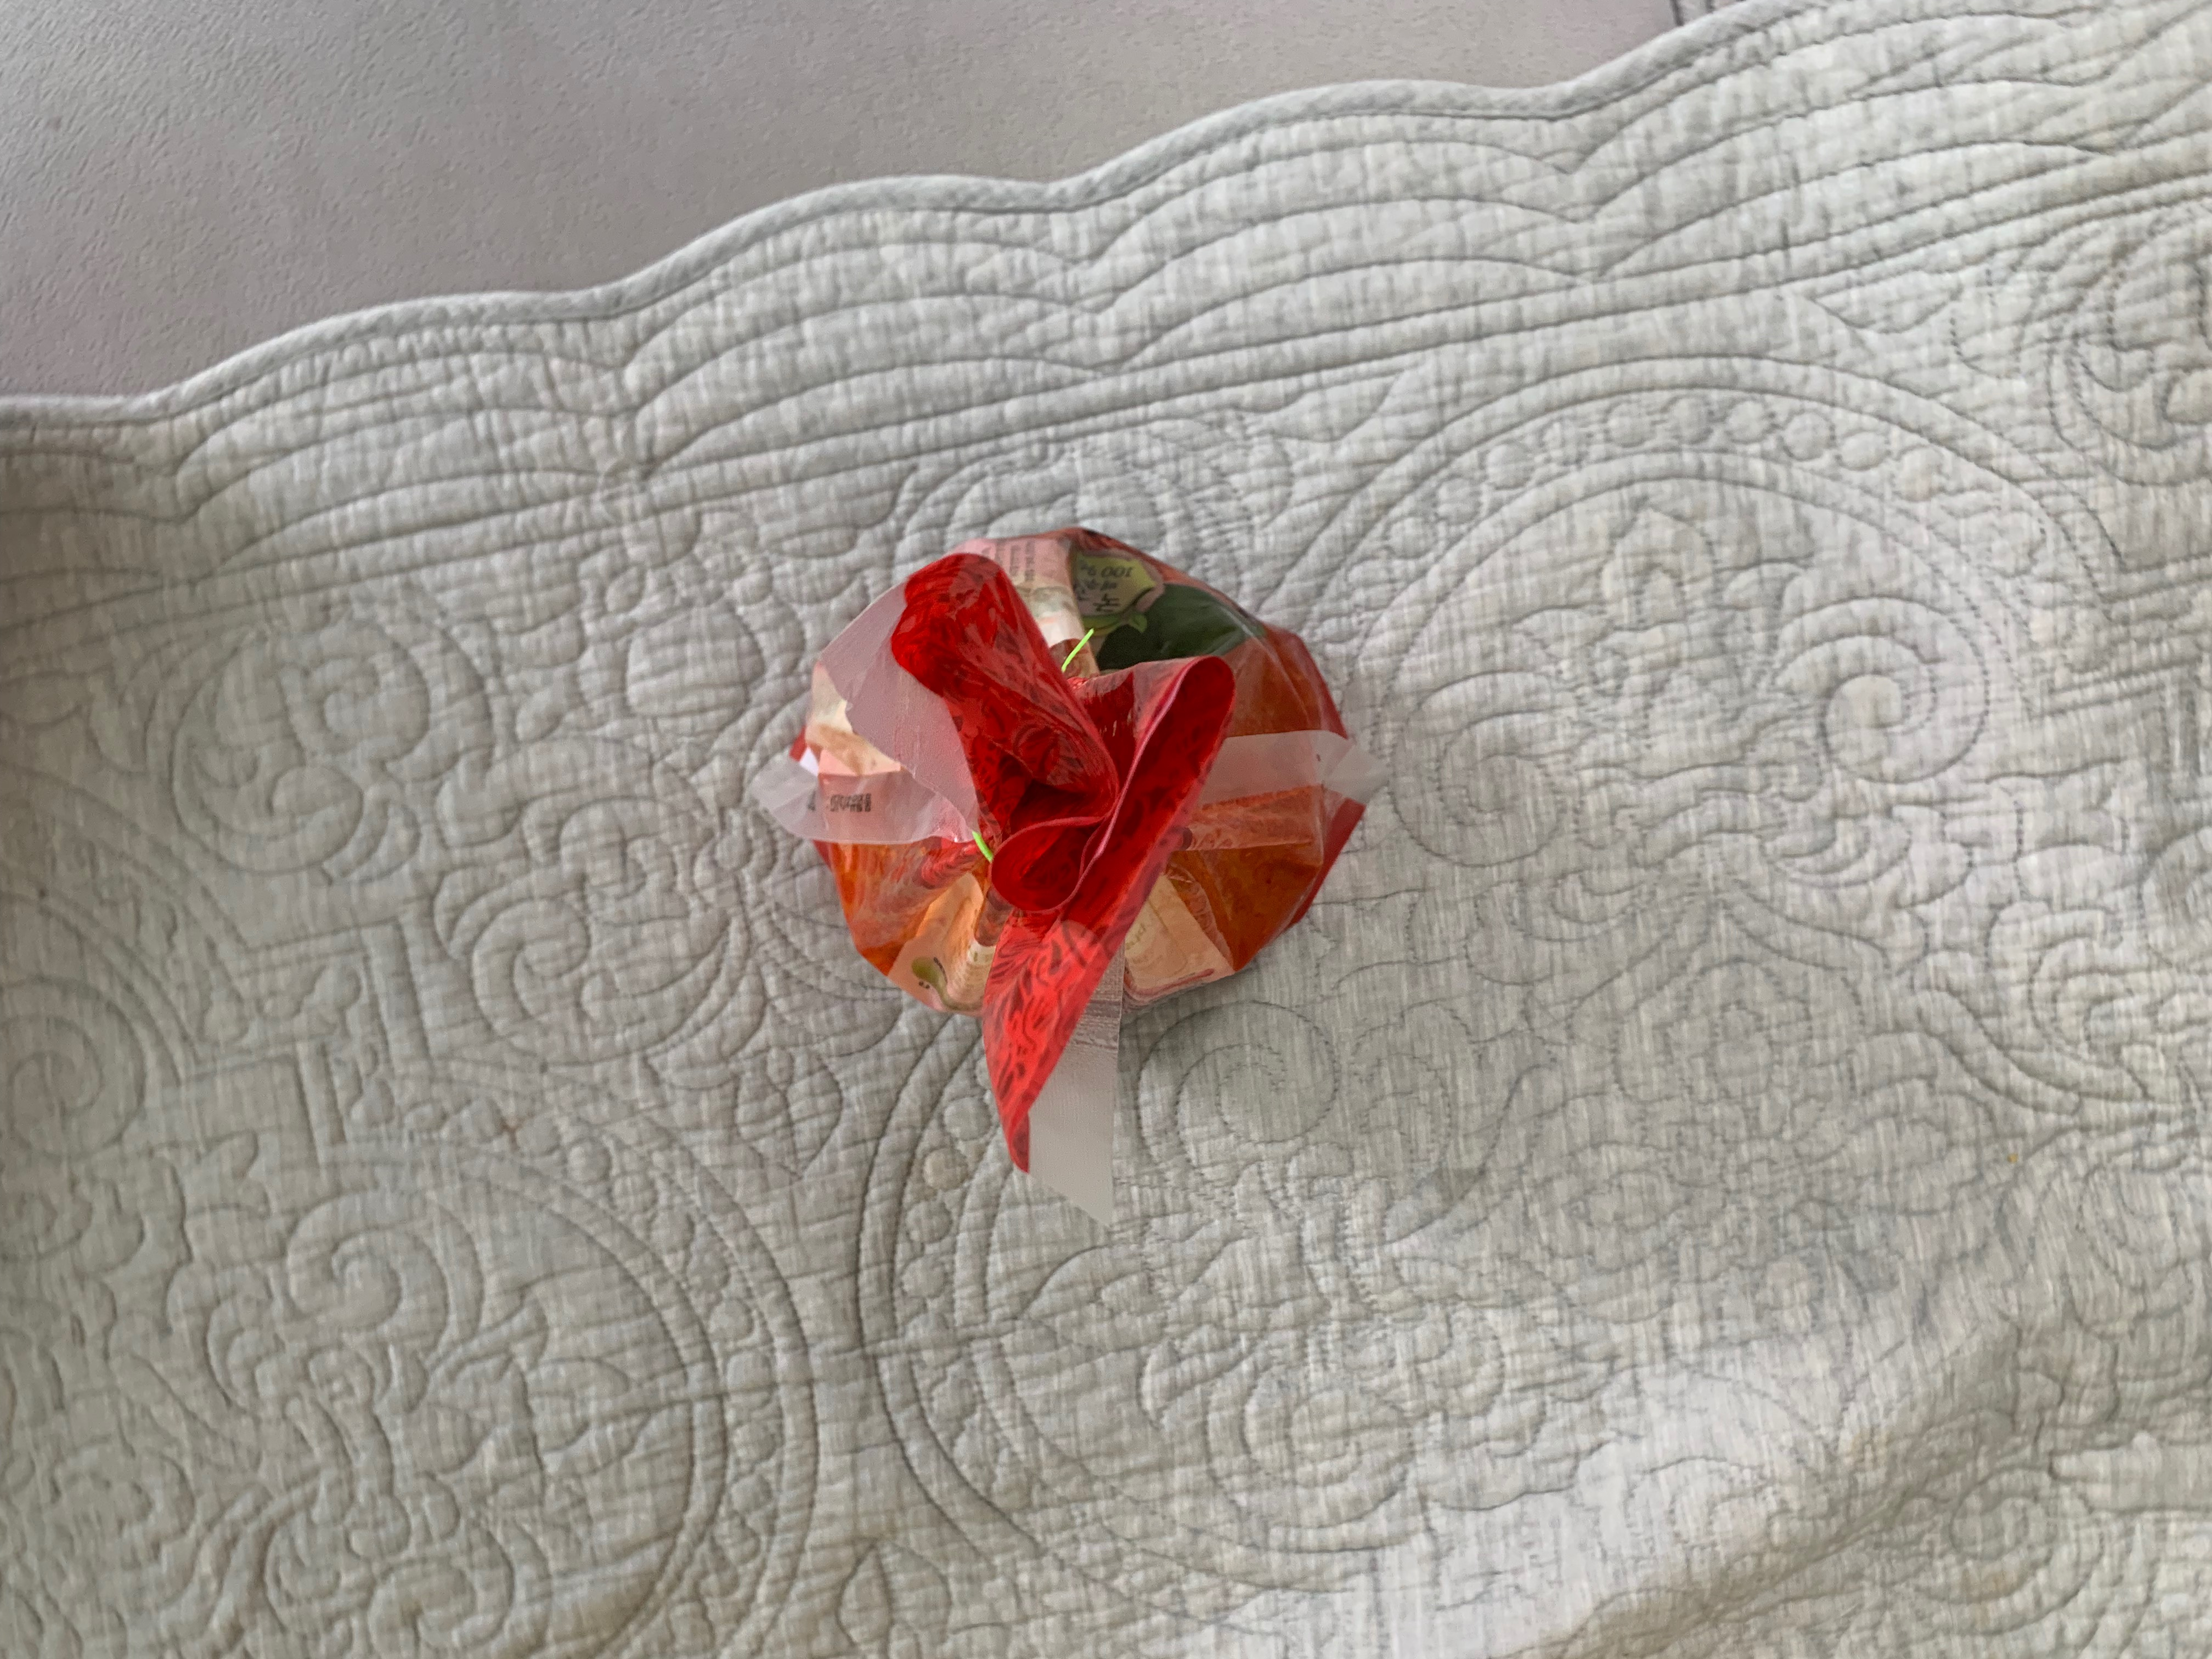kimchi: (799, 528, 1369, 1162)
